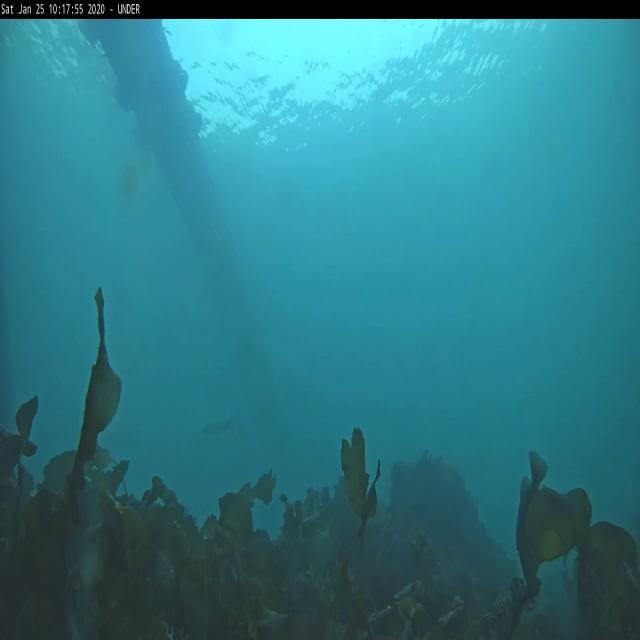fish: (204, 418, 234, 438)
